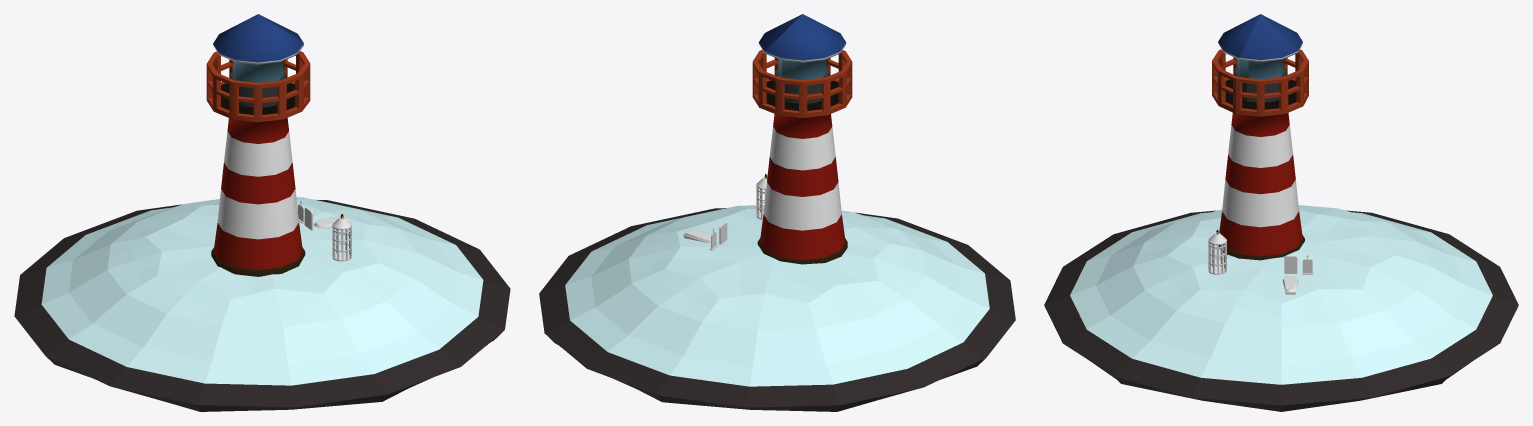
Rendered from Faro(temporal).fbx.
3 renders of one model, left to right at view 1: azimuth 30°, elevation 25°; view 2: azimuth 150°, elevation 25°; view 3: azimuth 270°, elevation 25°, orthographic. The views are drawn at different scales.
Visible parts, largest first — view 1: SueloNieve, Faro, Jaula; view 2: SueloNieve, Faro; view 3: SueloNieve, Faro, Jaula.
Part boxes in pixels (x1,y1,x2,y2): SueloNieve: (14,197,510,411); Faro: (206,14,310,276); Jaula: (332,217,351,261); SueloNieve: (539,205,1015,411); Faro: (752,14,852,264); SueloNieve: (1044,205,1518,411); Faro: (1212,14,1308,260); Jaula: (1208,233,1226,274).
Size of the model in its own units: 24.23 by 17.09 by 24.23.
